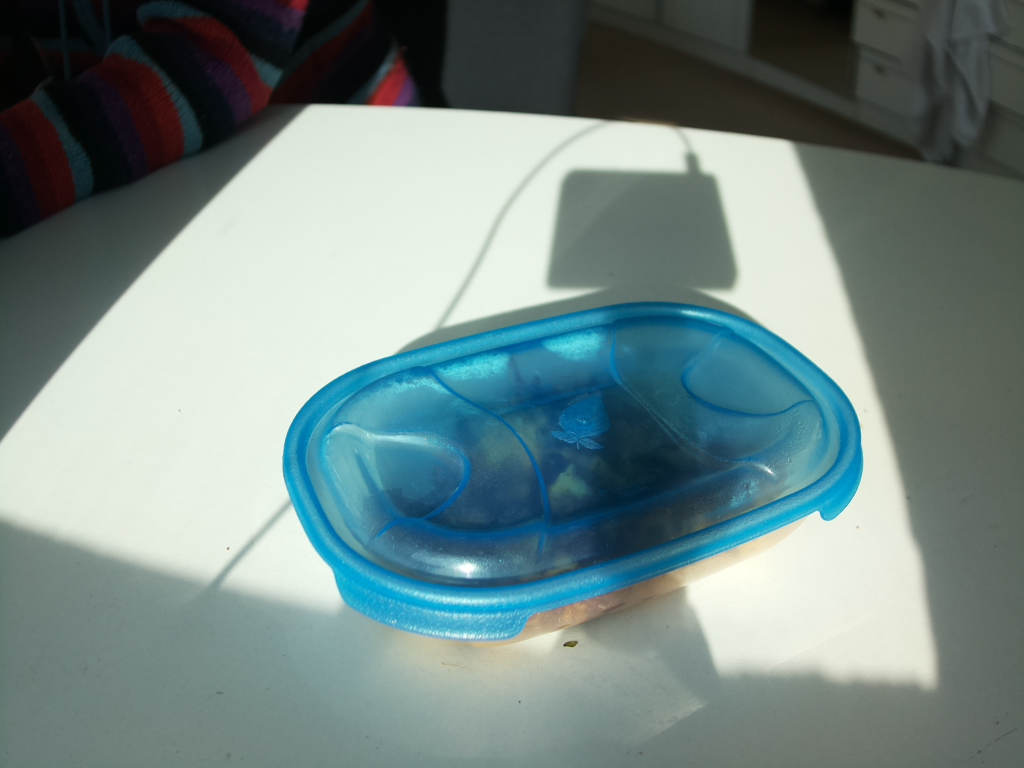leftovers: (282, 294, 863, 652)
